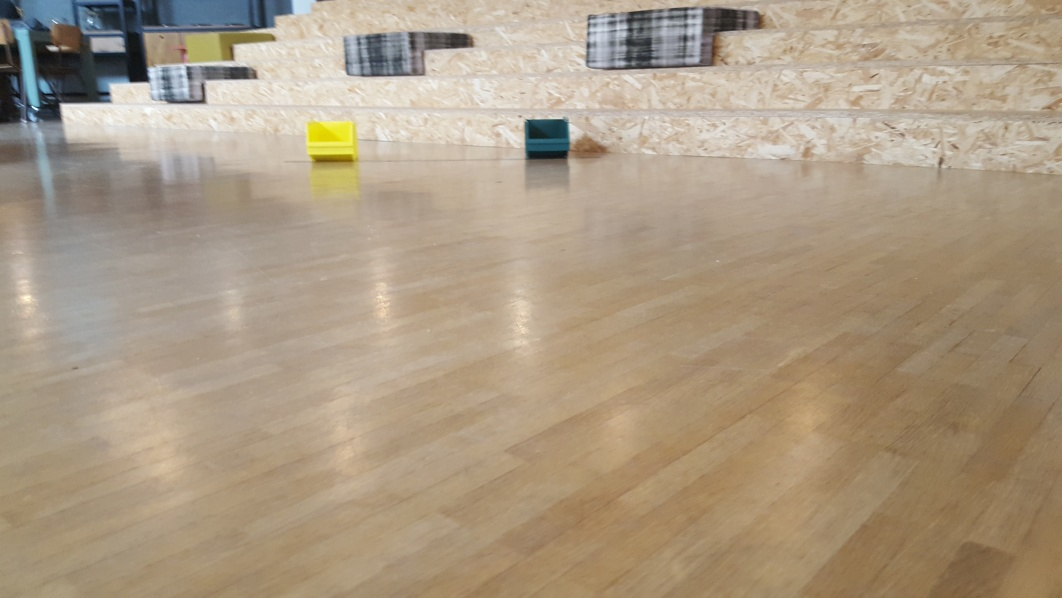tray: (304, 116, 358, 161), (520, 116, 572, 156)
